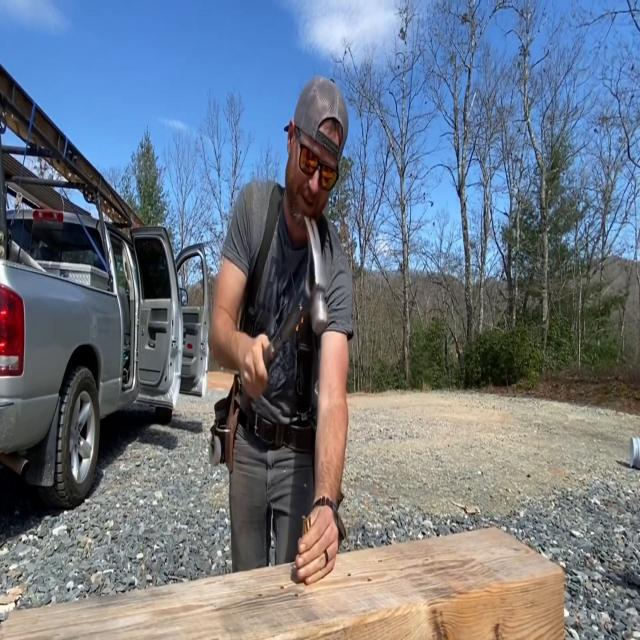hammer: (250, 214, 333, 388)
